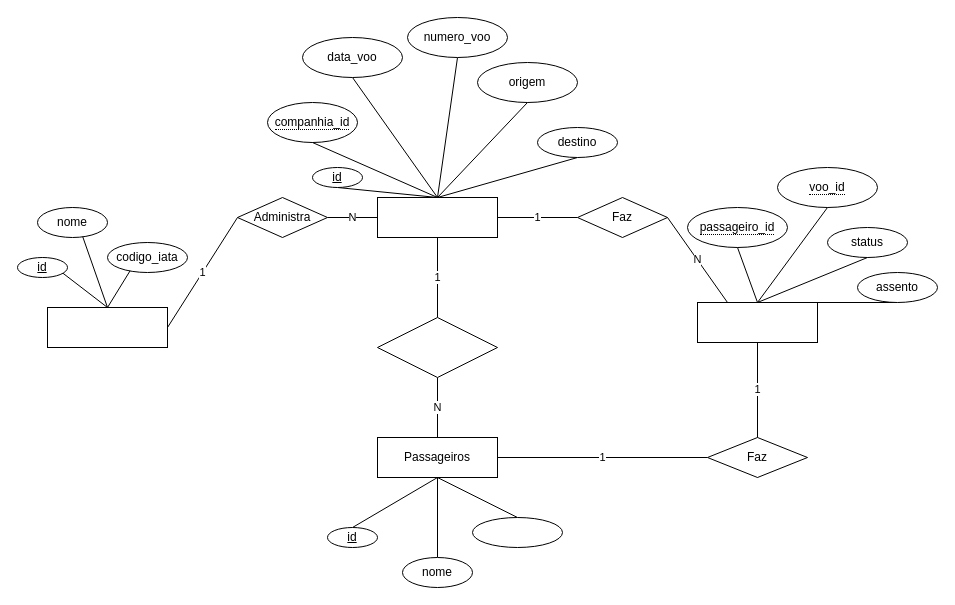
Some shapes in this 955 by 605 pixel diagram are drawn without their labels. The shapes that lost their labels are listed below. From the top down, each one's box as (x1, y1, x2, y2) in pixels, then its label:
(376, 196, 498, 238): Voos
(46, 306, 168, 348): Companhia
(696, 302, 818, 342): Reservas
(376, 316, 498, 378): Possui
(472, 516, 562, 548): documento
